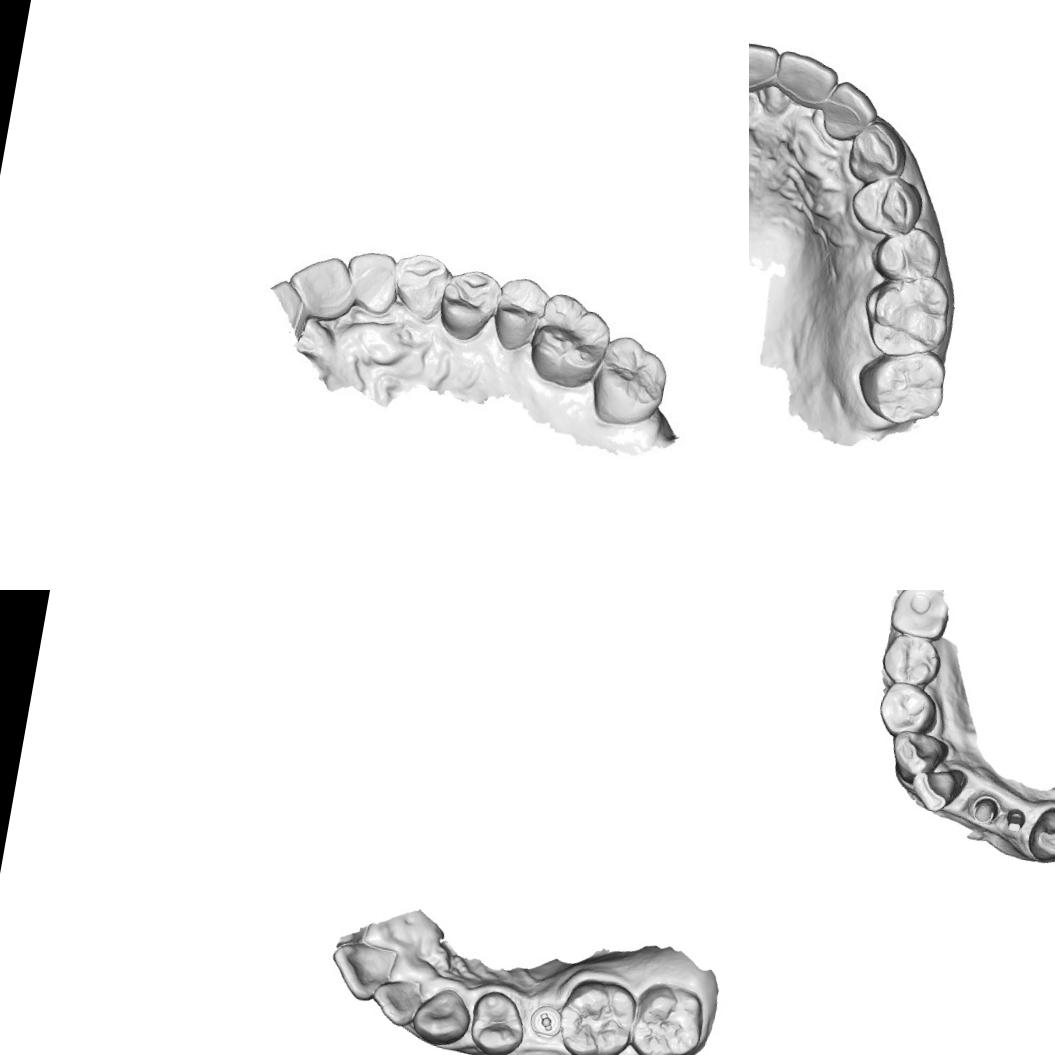abutment: (968, 790, 1002, 828), (1003, 804, 1027, 834)
canine: (842, 109, 916, 190), (385, 248, 449, 326), (407, 982, 472, 1051), (886, 727, 950, 789), (1023, 802, 1055, 867)
implant_minus: (526, 999, 566, 1043)
incisor: (286, 250, 358, 326), (324, 934, 396, 1005), (813, 72, 878, 148), (768, 48, 842, 112), (339, 243, 403, 315), (365, 974, 425, 1030), (906, 762, 968, 816), (749, 34, 781, 98)
molar: (854, 264, 956, 367), (851, 340, 952, 432), (579, 333, 675, 428), (525, 291, 614, 389), (552, 971, 640, 1055), (623, 974, 711, 1055), (886, 590, 953, 642)
premolar: (848, 168, 932, 244), (870, 220, 946, 291), (488, 275, 552, 357), (463, 985, 531, 1055), (434, 265, 498, 339), (873, 678, 940, 744), (877, 630, 945, 689)
